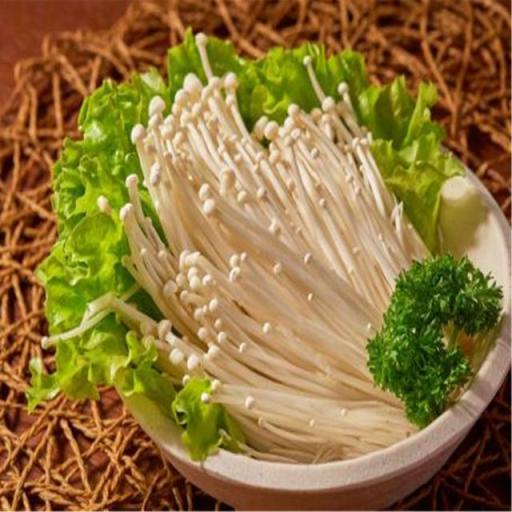Enoki Mushroom: (119, 34, 430, 460)
